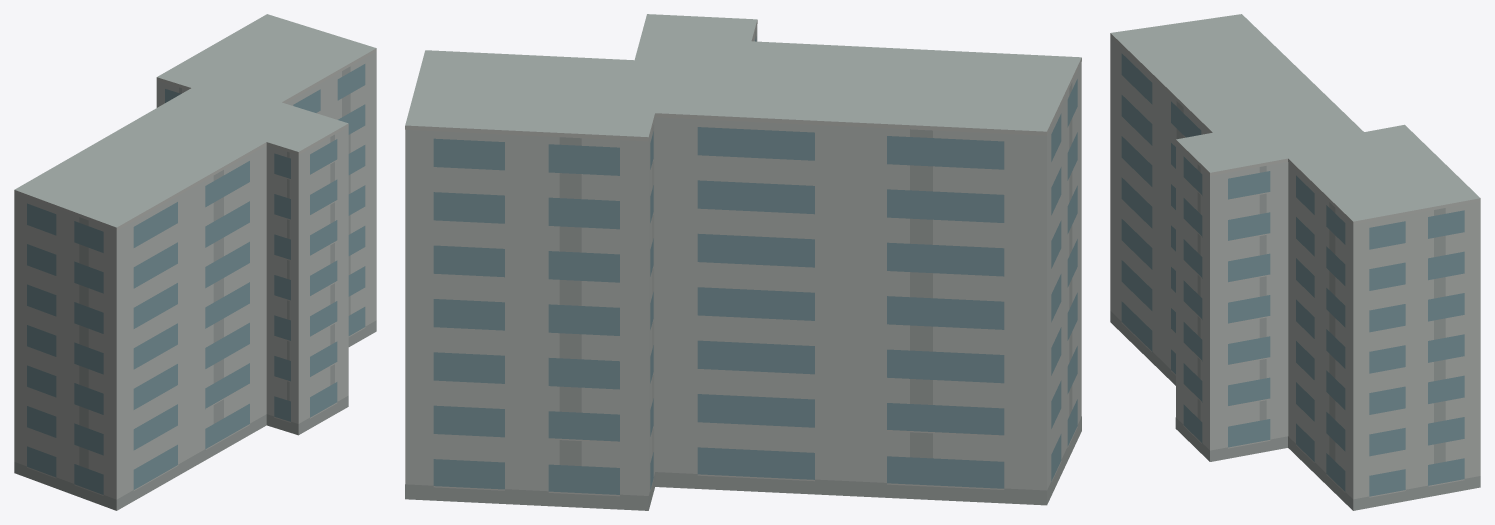
File: residential-3b89ac9c-cd3b-4aec-9000-19e09f3684fc.glb
The picture shows the model from 3 angles, left to right: view 1: azimuth 30°, elevation 25°; view 2: azimuth 150°, elevation 25°; view 3: azimuth 270°, elevation 25°; orthographic projection. The views are drawn at different scales.
Visible parts, largest first — view 1: residential-3b89ac9c-cd3b-4aec-9000-19e09f3684fc.tmp; view 2: residential-3b89ac9c-cd3b-4aec-9000-19e09f3684fc.tmp; view 3: residential-3b89ac9c-cd3b-4aec-9000-19e09f3684fc.tmp.
Part boxes in pixels (x1,y1,x2,y2): residential-3b89ac9c-cd3b-4aec-9000-19e09f3684fc.tmp: [14, 14, 376, 510]; residential-3b89ac9c-cd3b-4aec-9000-19e09f3684fc.tmp: [405, 14, 1081, 510]; residential-3b89ac9c-cd3b-4aec-9000-19e09f3684fc.tmp: [1110, 14, 1480, 510].
Size of the model in its own units: 32.88 by 21.35 by 24.77.
